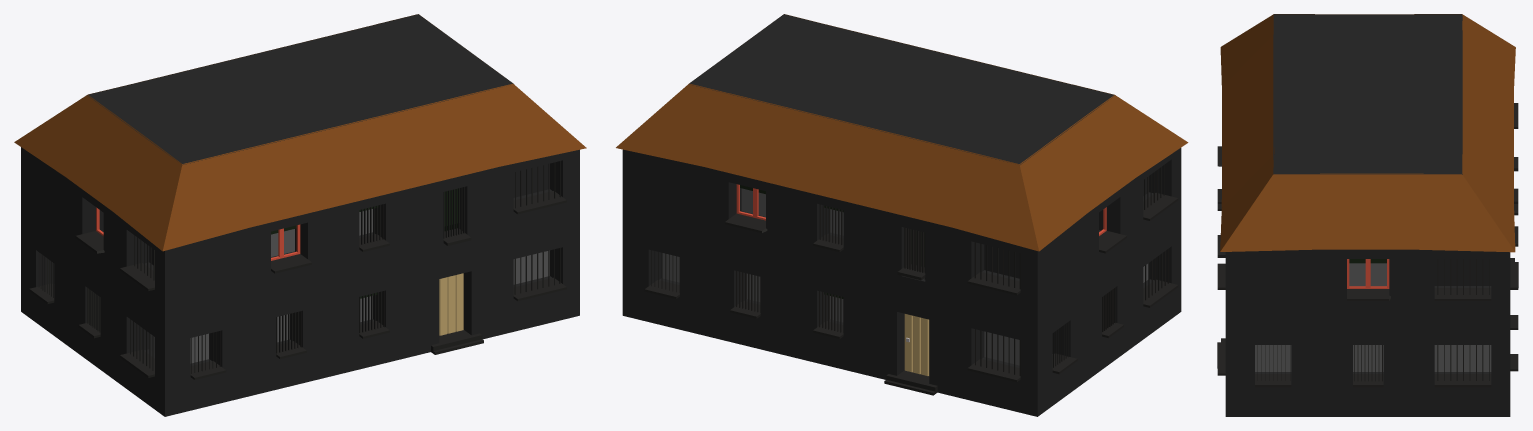
The model's file is Casa_Procedural_3.fbx.
3 views of the same model, side by side, from view 1: azimuth 30°, elevation 25°; view 2: azimuth 150°, elevation 25°; view 3: azimuth 270°, elevation 25° (orthographic).
Visible parts, largest first — view 1: 3; view 2: 3; view 3: 3.
Boxes of the visible parts, x1,y1,x2,y2 form: 3: (14,14,586,416); 3: (616,14,1188,416); 3: (1217,14,1518,416).
Bounding box in the file's own units: 516 × 259 × 318.
